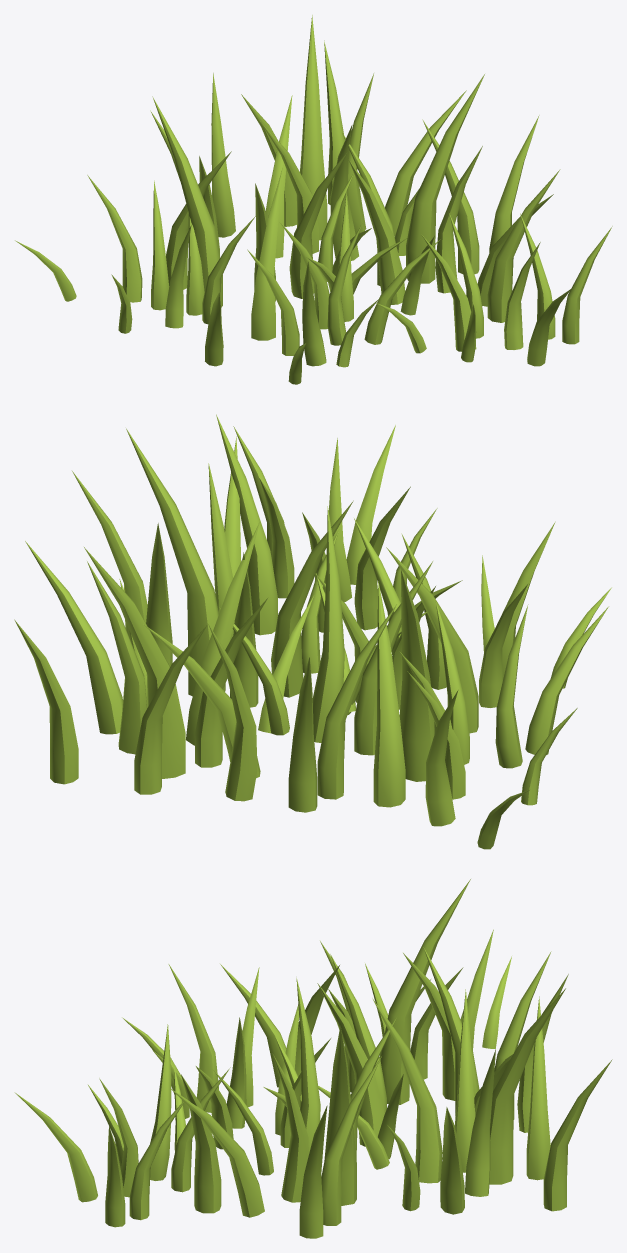
The picture shows the model from 3 angles, top to bottom: view 1: azimuth 30°, elevation 25°; view 2: azimuth 150°, elevation 25°; view 3: azimuth 270°, elevation 25°; orthographic projection. The views are drawn at different scales.
Parts seen in each view (by area): view 1: default3_Material_0; view 2: default3_Material_0; view 3: default3_Material_0.
Boxes of the visible parts, x1=… form: default3_Material_0: x1=15, y1=15, x2=612, y2=384; default3_Material_0: x1=14, y1=414, x2=611, y2=849; default3_Material_0: x1=14, y1=879, x2=612, y2=1238.
Size of the model in its own units: 0.034 by 0.0147 by 0.0364.
1 material, 1 textured.
